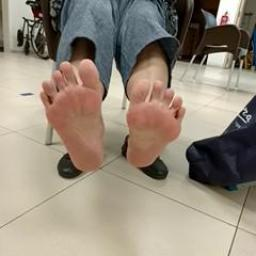Plantar View -Both Feet-: (24, 54, 186, 189)
